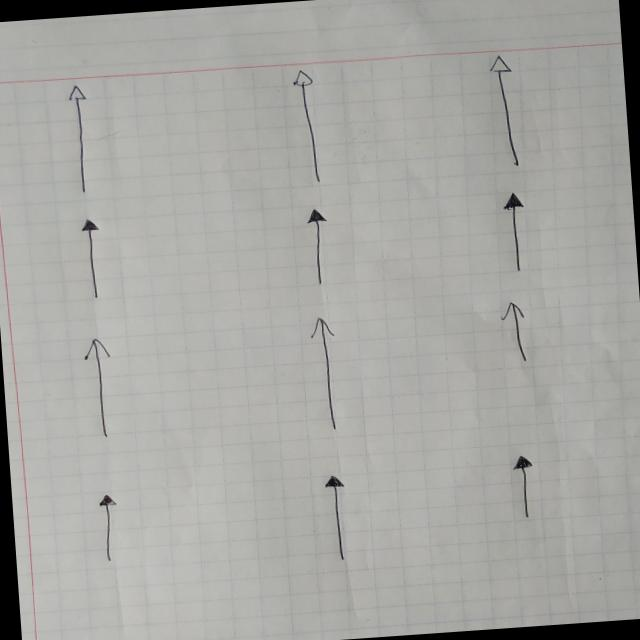arrow_line_up: (487, 52, 526, 170), (292, 68, 326, 185), (309, 316, 342, 432), (80, 337, 116, 437), (66, 85, 93, 195), (322, 474, 353, 562), (502, 192, 531, 272), (500, 301, 532, 364), (79, 218, 103, 299), (306, 206, 330, 285), (511, 453, 535, 520), (97, 493, 119, 563)
